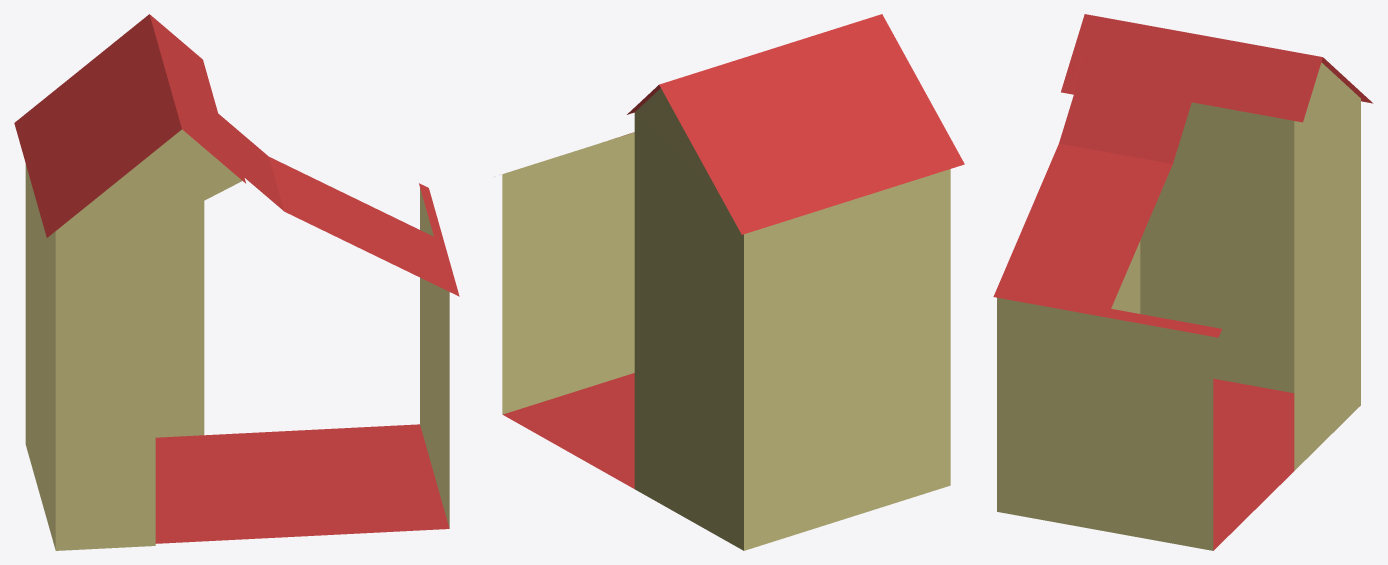
3 renders of one model, left to right at view 1: azimuth 30°, elevation 25°; view 2: azimuth 150°, elevation 25°; view 3: azimuth 270°, elevation 25°, orthographic. The views are drawn at different scales.
Bounding box in the file's own units: 12.07 × 9.88 × 11.36.
